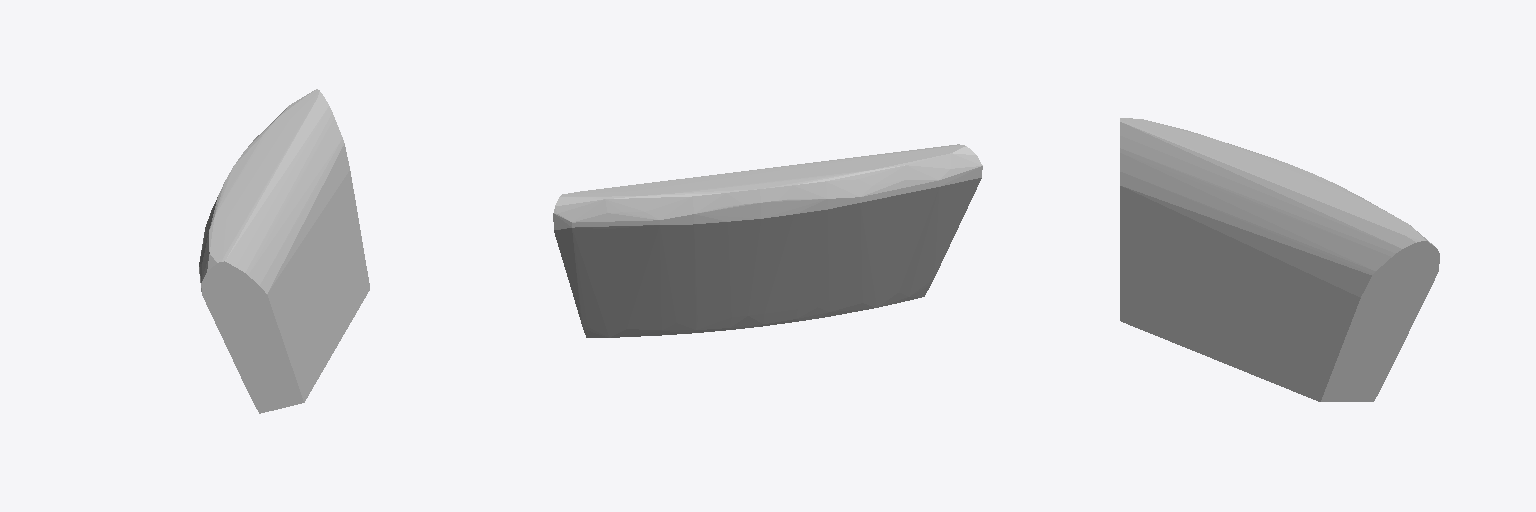
Rendered from pan_collision_14.obj.
3 views of the same model, side by side, from view 1: azimuth 30°, elevation 25°; view 2: azimuth 150°, elevation 25°; view 3: azimuth 270°, elevation 25° (orthographic).
Bounding box in the file's own units: 0.0527 × 0.0302 × 0.0542.